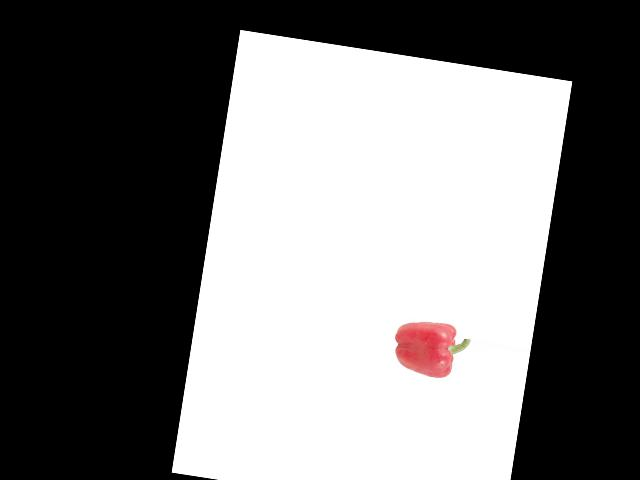bell_pepper: (388, 313, 472, 389)
